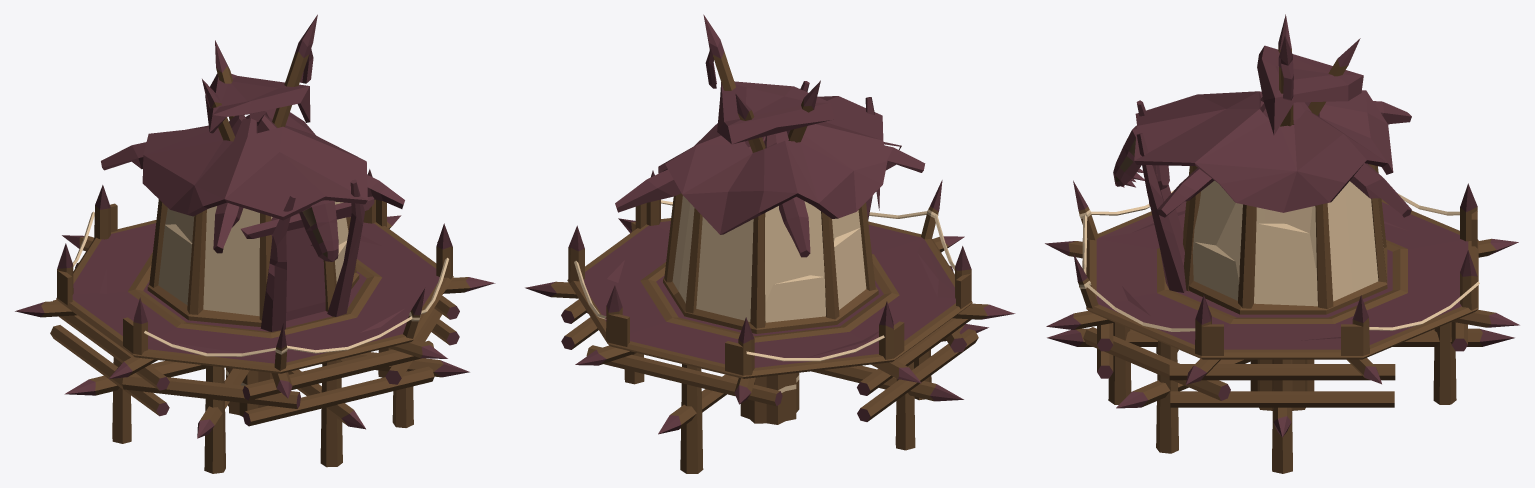
Rendered from tribal-tower-tribal-tier2.glb.
3 renders of one model, left to right at view 1: azimuth 30°, elevation 25°; view 2: azimuth 150°, elevation 25°; view 3: azimuth 270°, elevation 25°, orthographic. The views are drawn at different scales.
Parts seen in each view (by area): view 1: SM_Tower_Tribal_Tier2; view 2: SM_Tower_Tribal_Tier2; view 3: SM_Tower_Tribal_Tier2.
Part boxes in pixels (bbox=[...]): SM_Tower_Tribal_Tier2: bbox=[15, 14, 495, 473]; SM_Tower_Tribal_Tier2: bbox=[525, 14, 1015, 473]; SM_Tower_Tribal_Tier2: bbox=[1045, 14, 1519, 473].
Size of the model in its own units: 12.13 by 11.2 by 12.13.
